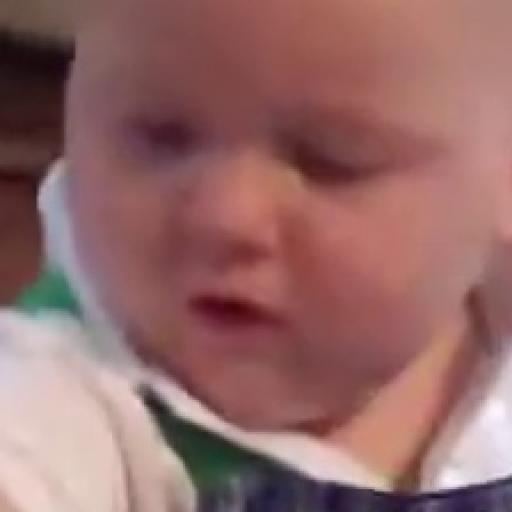Autism: (78, 2, 512, 474)
